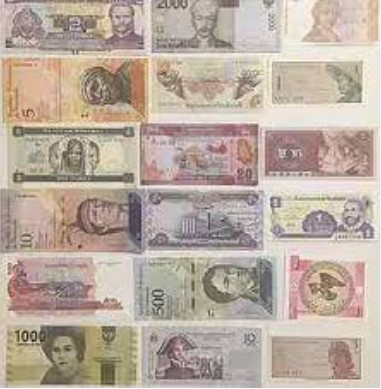cash: (1, 56, 148, 122), (1, 187, 143, 254), (1, 255, 134, 326), (136, 256, 278, 322), (1, 326, 137, 389), (1, 1, 150, 56), (6, 124, 139, 185), (140, 325, 265, 389), (142, 190, 263, 252), (140, 124, 258, 187), (150, 55, 265, 114), (151, 1, 280, 53), (283, 254, 370, 319), (268, 191, 376, 240), (265, 129, 372, 178), (280, 1, 381, 43), (271, 62, 361, 105), (271, 337, 361, 379)
